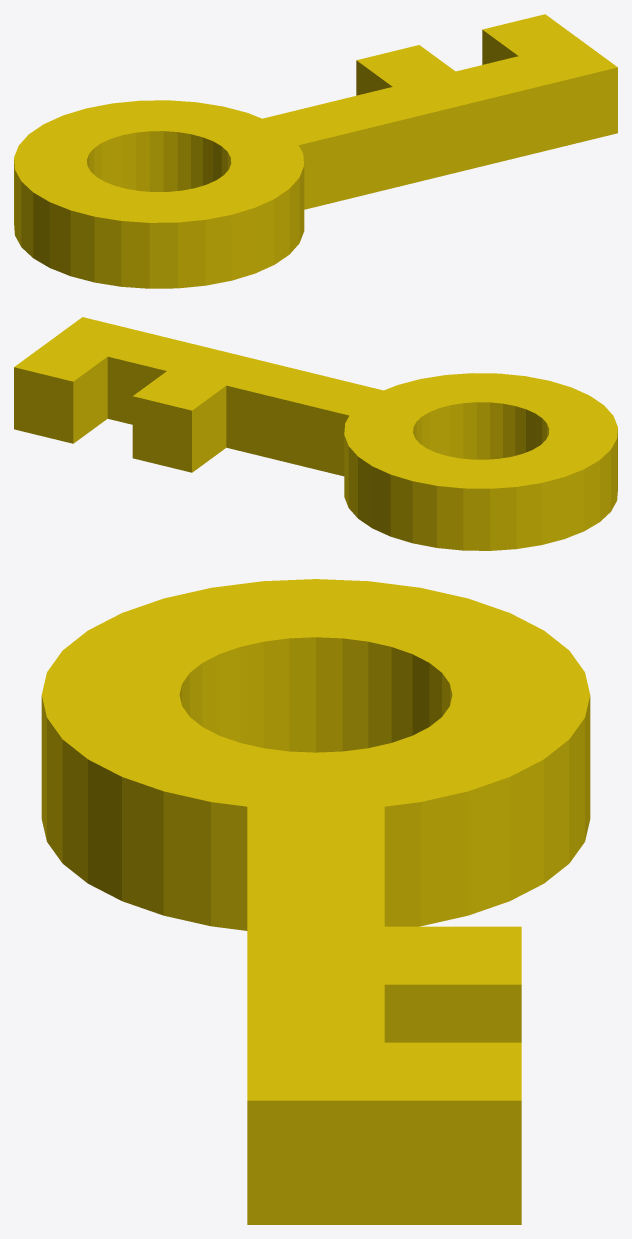
The model's file is key.fbx.
3 views of the same model, one above another, from view 1: azimuth 30°, elevation 25°; view 2: azimuth 150°, elevation 25°; view 3: azimuth 270°, elevation 25° (orthographic). The views are drawn at different scales.
Visible parts, largest first — view 1: Plane.002; view 2: Plane.002; view 3: Plane.002.
Boxes of the visible parts, left/top/right/bottom form: Plane.002: left=14, top=14, right=617, bottom=288; Plane.002: left=14, top=317, right=617, bottom=550; Plane.002: left=41, top=579, right=590, bottom=1224.
Size of the model in its own units: 450 by 50 by 200.
